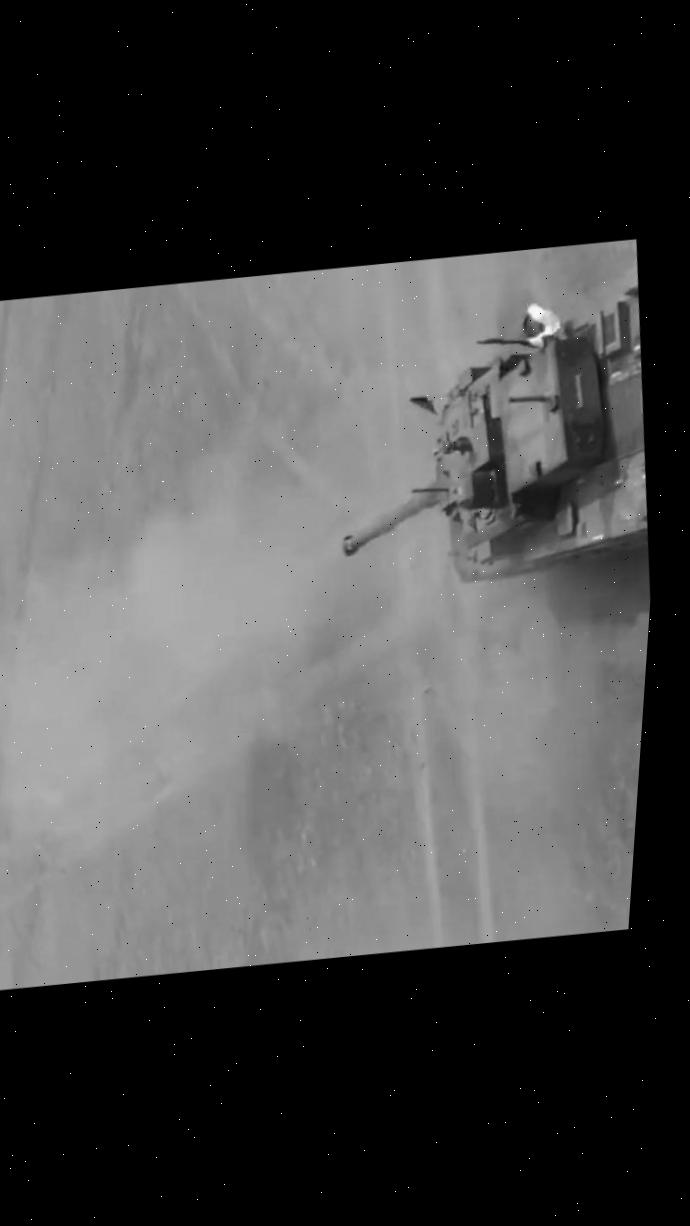tank: (307, 272, 670, 605)
